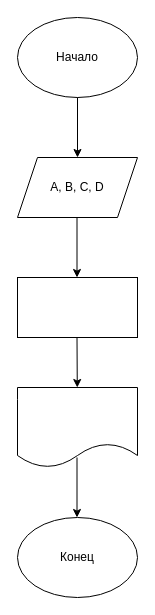
This 155x615 diagram has some shape labels left out. The shapes that lost their labels are listed below. From the top down, each one's centre as x and y in pixels, then its label:
At point 77,307: "(A + B + C + D)/4".
At point 77,427: "Ср. арифм.".
